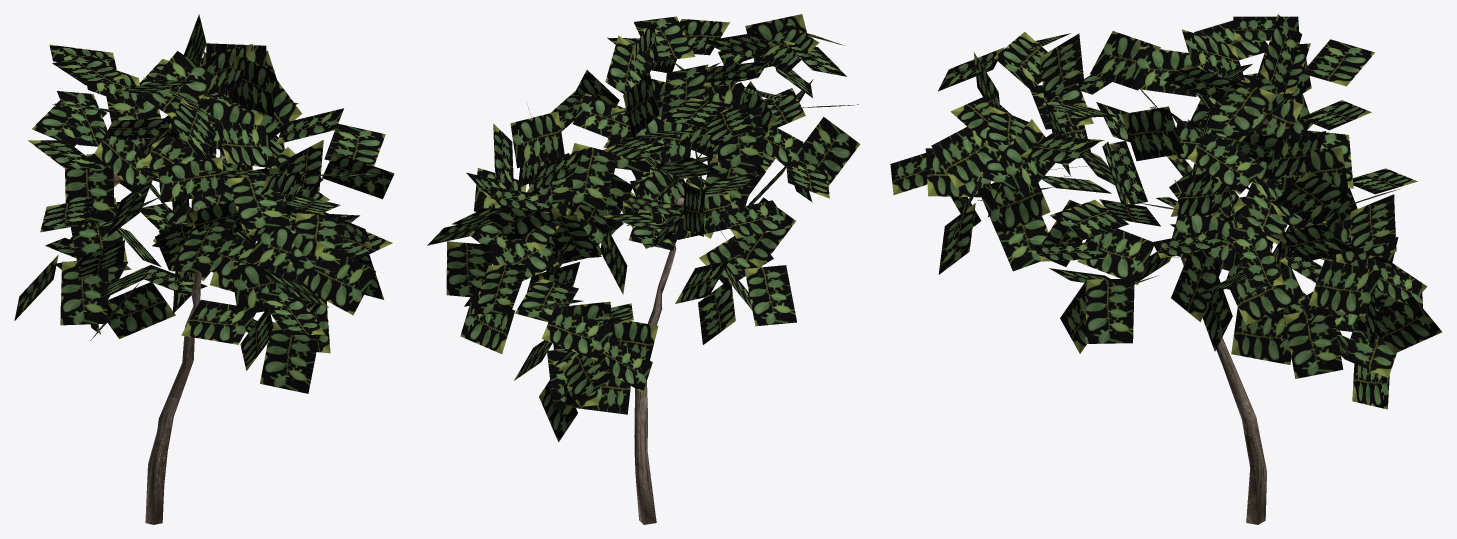
File: tree-open-02-lod2.glb
3 views of the same model, side by side, from view 1: azimuth 30°, elevation 25°; view 2: azimuth 150°, elevation 25°; view 3: azimuth 270°, elevation 25° (orthographic). The views are drawn at different scales.
Parts seen in each view (by area): view 1: tree-open-02_MATERIAL_BATCH; view 2: tree-open-02_MATERIAL_BATCH; view 3: tree-open-02_MATERIAL_BATCH.
Part boxes in pixels (x1,y1,x2,y2): tree-open-02_MATERIAL_BATCH: (14, 14, 394, 524); tree-open-02_MATERIAL_BATCH: (427, 14, 860, 524); tree-open-02_MATERIAL_BATCH: (890, 14, 1442, 524).
Bounding box in the file's own units: 5.65 × 8 × 8.
Materials: 3 (3 with a texture image).
